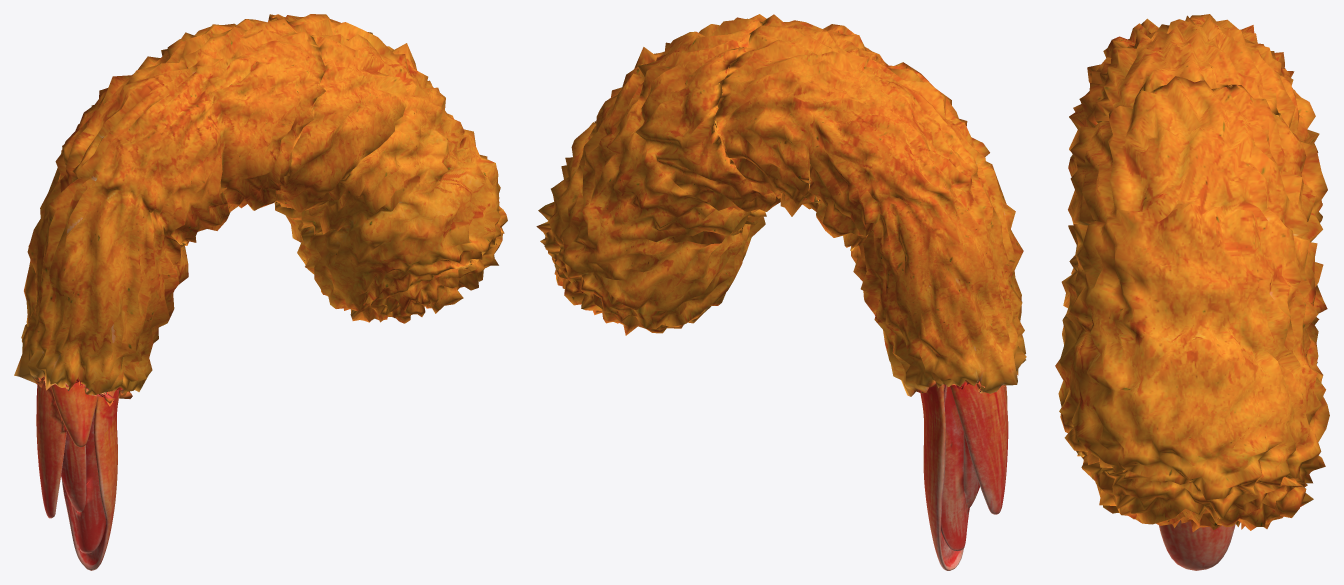
Rendered from shrimp-fried.glb.
The picture shows the model from 3 angles, left to right: view 1: azimuth 30°, elevation 25°; view 2: azimuth 150°, elevation 25°; view 3: azimuth 270°, elevation 25°; orthographic projection. The views are drawn at different scales.
Visible parts, largest first — view 1: fried.final, original; view 2: fried.final, original; view 3: fried.final, original.
Boxes of the visible parts, bbox=[...] form: fried.final: bbox=[14, 14, 507, 406]; original: bbox=[36, 381, 119, 570]; fried.final: bbox=[536, 14, 1026, 396]; original: bbox=[920, 383, 1008, 570]; fried.final: bbox=[1055, 14, 1329, 531]; original: bbox=[1159, 520, 1235, 570].
Bounding box in the file's own units: 4.13 × 4.19 × 1.66.
Materials: 1 (1 with a texture image).
